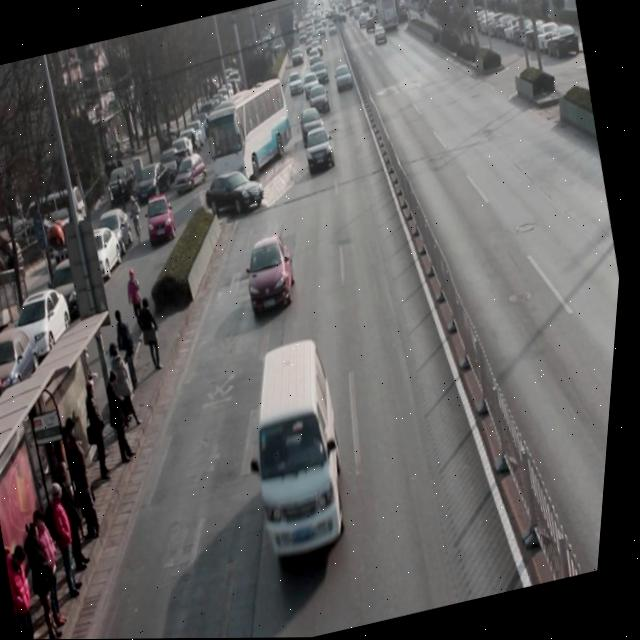car: (240, 232, 309, 320), (202, 163, 272, 223), (302, 127, 342, 176), (298, 107, 333, 150), (306, 84, 335, 119)
truck: (231, 340, 376, 565)
van: (197, 77, 304, 187)
